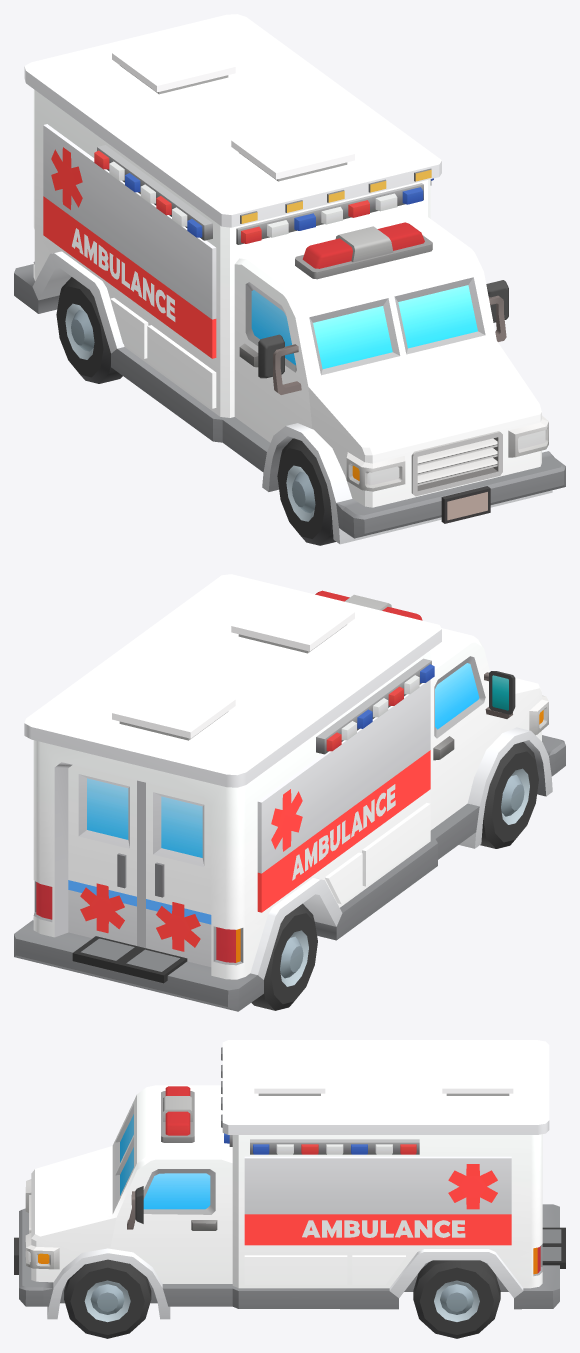
The model's file is city2-ambulance-01.glb.
The picture shows the model from 3 angles, top to bottom: view 1: azimuth 30°, elevation 25°; view 2: azimuth 150°, elevation 25°; view 3: azimuth 270°, elevation 25°; orthographic projection. The views are drawn at different scales.
Visible parts, largest first — view 1: Garbage Truck1.017, Wheel_169, Wheel_170; view 2: Garbage Truck1.017, Wheel_169, Wheel_170; view 3: Garbage Truck1.017, Wheel_172, Wheel_171.
Boxes of the visible parts, x1=… form: Garbage Truck1.017: x1=14, y1=14, x2=565, y2=544; Wheel_169: x1=277, y1=438, x2=335, y2=545; Wheel_170: x1=56, y1=277, x2=122, y2=383; Garbage Truck1.017: x1=14, y1=574, x2=565, y2=1011; Wheel_169: x1=480, y1=742, x2=538, y2=848; Wheel_170: x1=251, y1=903, x2=317, y2=1010; Garbage Truck1.017: x1=14, y1=1040, x2=565, y2=1319; Wheel_172: x1=413, y1=1260, x2=500, y2=1338; Wheel_171: x1=64, y1=1259, x2=151, y2=1338.
Size of the model in its own units: 2.65 by 2.93 by 6.49.
Materials: 2 (2 with a texture image).
